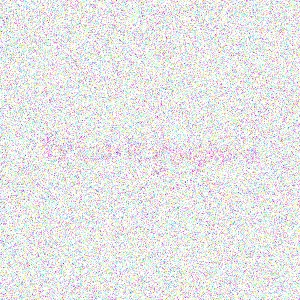corte_ingles: (249, 61, 280, 184)
